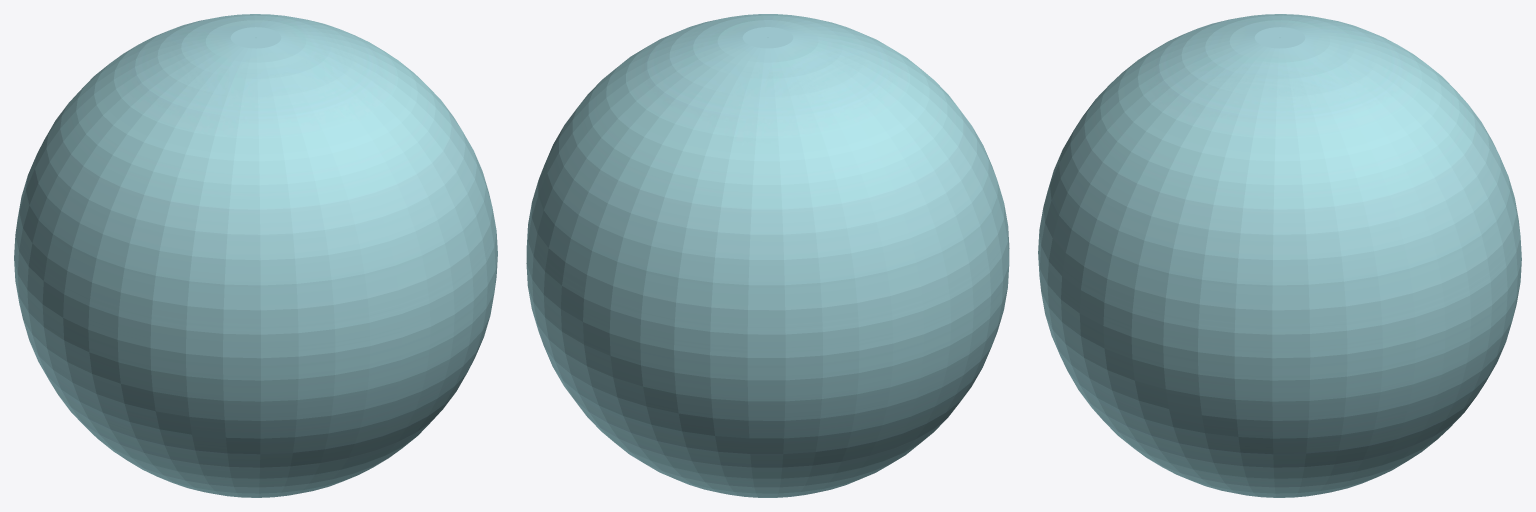
File: Uranus.glb
3 views of the same model, side by side, from view 1: azimuth 30°, elevation 25°; view 2: azimuth 150°, elevation 25°; view 3: azimuth 270°, elevation 25° (orthographic).
Visible parts, largest first — view 1: Sphere_007; view 2: Sphere_007; view 3: Sphere_007.
Boxes of the visible parts, x1,y1,x2,y2 form: Sphere_007: (14, 14, 497, 497); Sphere_007: (526, 14, 1009, 497); Sphere_007: (1038, 14, 1521, 497).
Size of the model in its own units: 2.59 by 2.58 by 2.59.
1 material, 1 textured.
